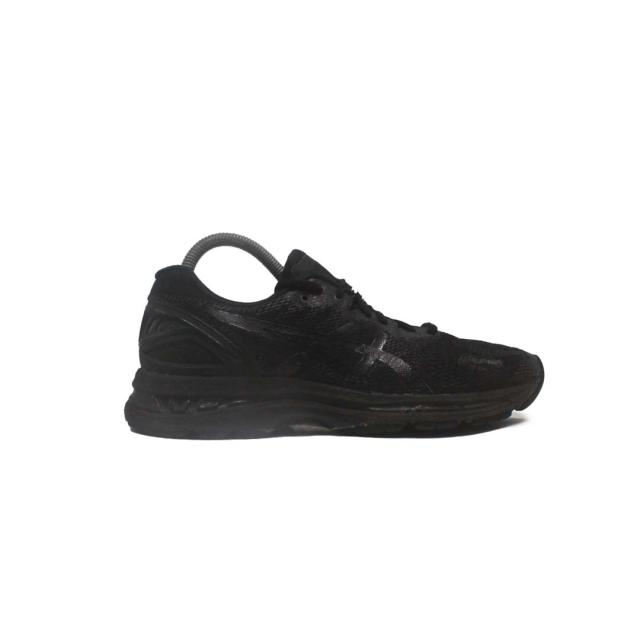heel: (131, 242, 189, 378)
midsole: (123, 374, 541, 443)
uppersole: (193, 242, 555, 403)
